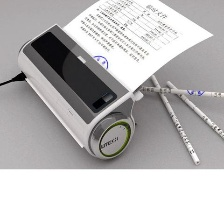book: (58, 0, 215, 97)
